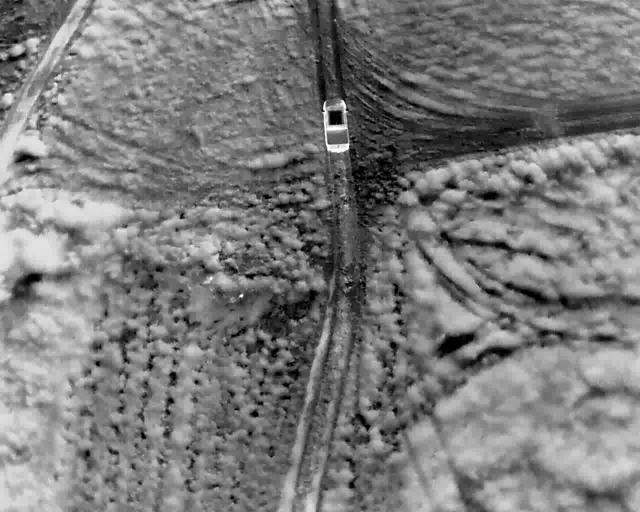car: (321, 98, 349, 154)
